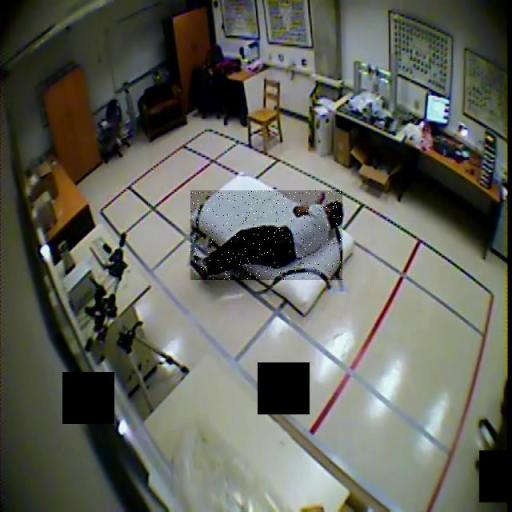Fall: (191, 191, 343, 281)
